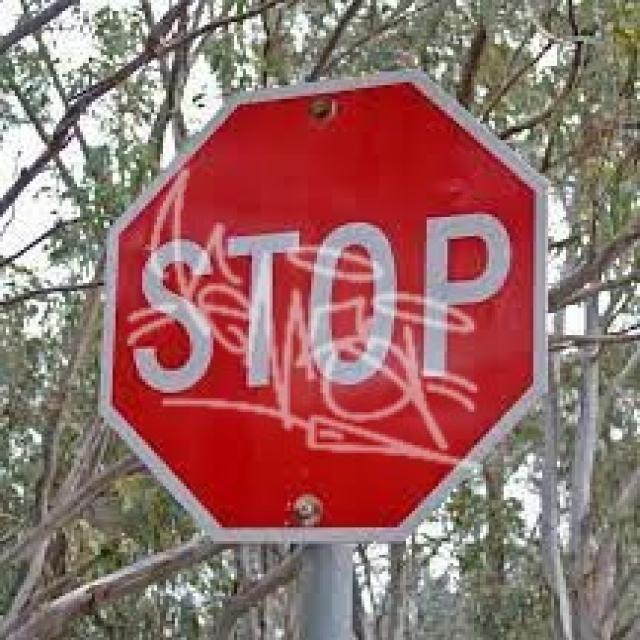Stop-Sign: (104, 89, 530, 516)
